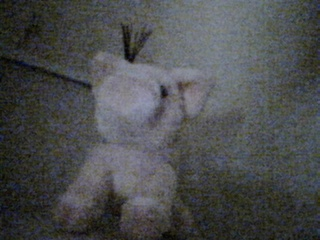piggy: (53, 50, 207, 240)
